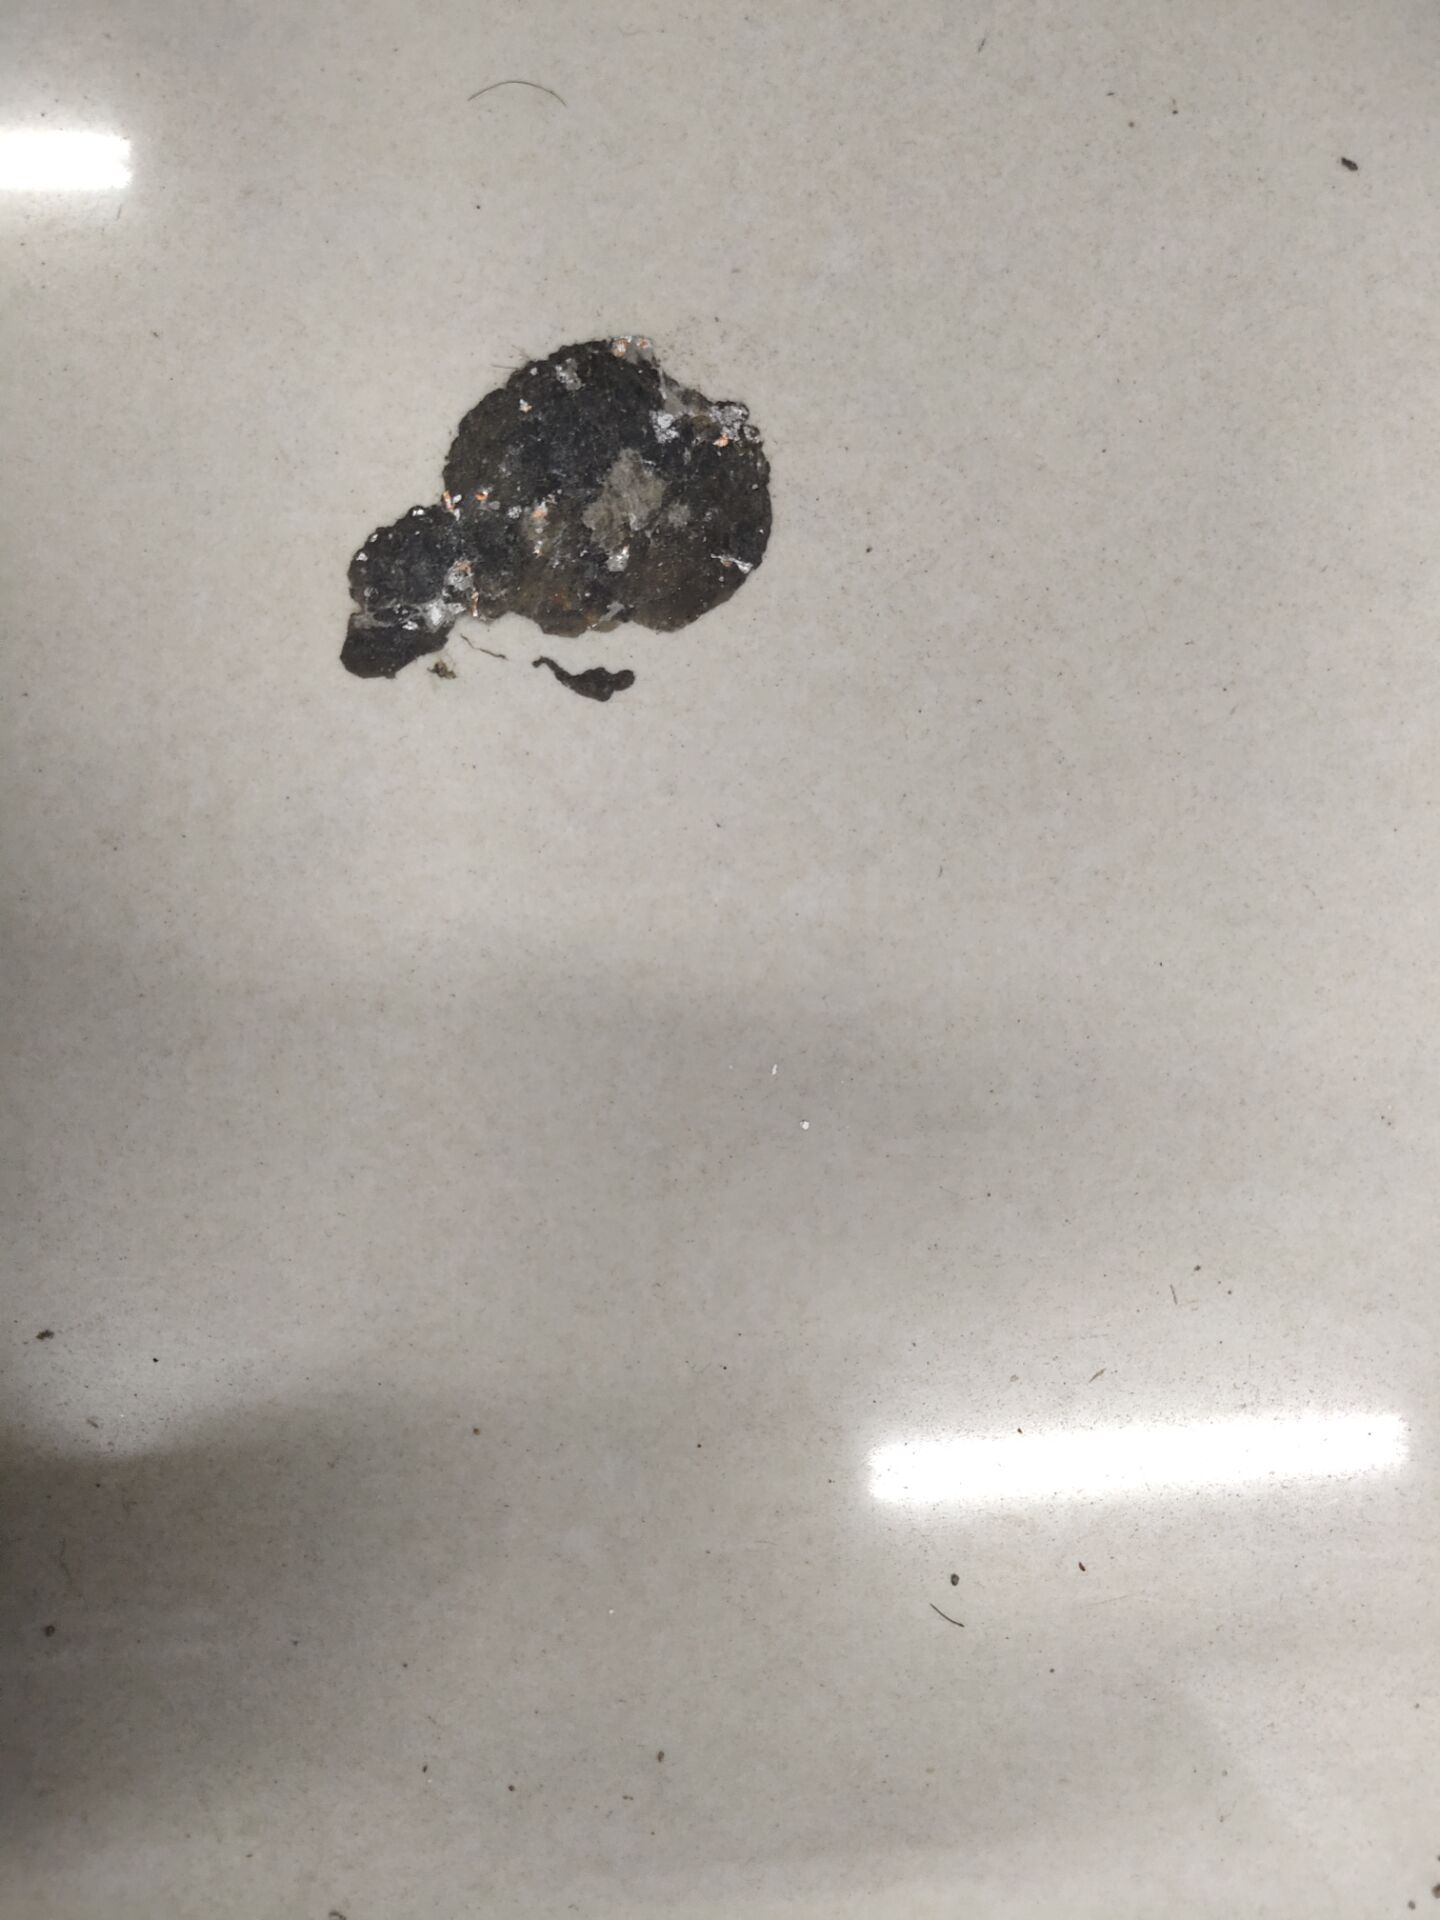grey spot: (339, 339, 774, 680), (531, 655, 637, 705)
reflection: (865, 1407, 1408, 1510)
